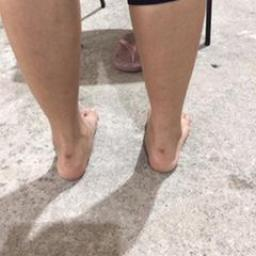Back View -Both Feet-: (26, 88, 200, 198)
